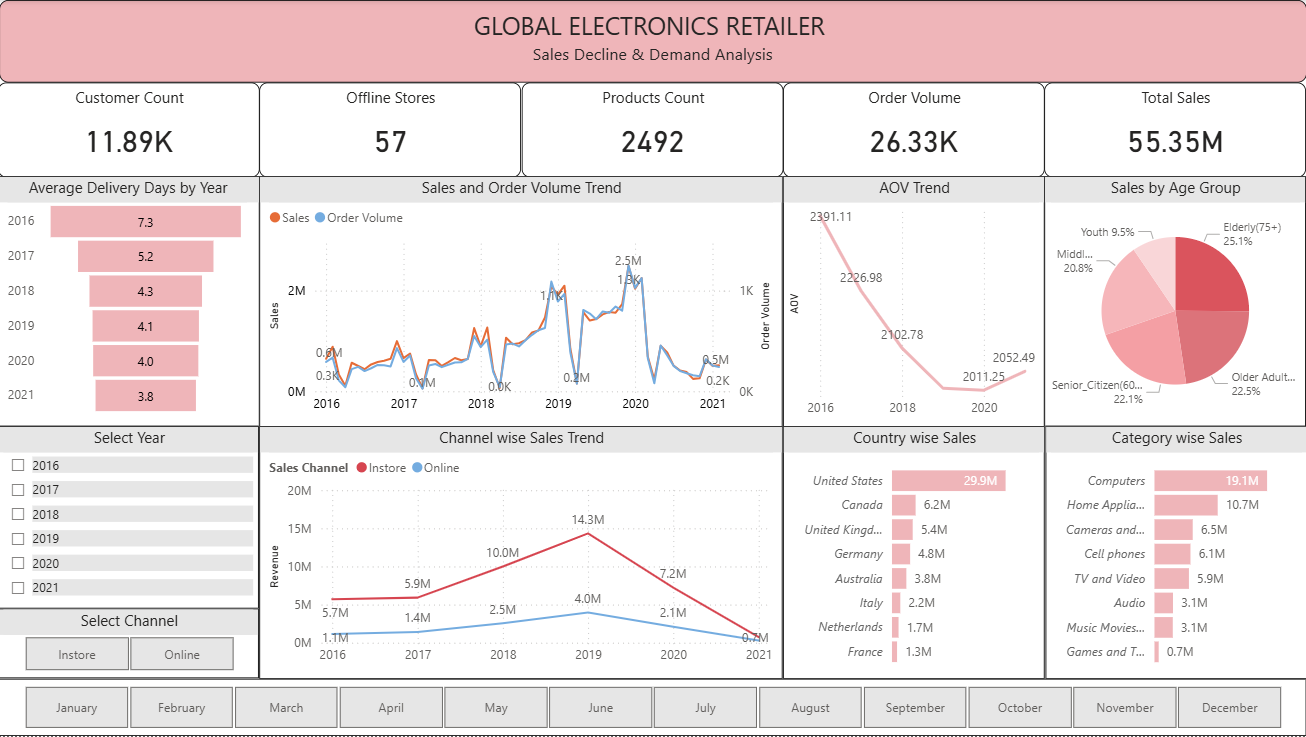

Layout of this report page (visuals, bound fields, positions):
{"tool":"powerbi","page":{"name":"DASHBOARD","canvas":[1280,720],"ordinal":0},"visuals":[{"type":"textbox","box":[1.2,0,1279.1,80.7],"z":0},{"type":"card","title":"Customer Count","fields":{"Values":["Count(Sales.Customer_Key)"]},"box":[0,80.9,256,92.9],"z":1000},{"type":"card","title":"Products Count","fields":{"Values":["Count(Sales.Product_Key)"]},"box":[512,80.9,256,92.9],"z":2000},{"type":"card","title":"Order Volume","fields":{"Values":["Count(Sales.Order_Number)"]},"box":[768,80.9,256,92.9],"z":3000},{"type":"card","title":"Offline Stores","fields":{"Values":["Stores.Store_count"]},"box":[256,80.9,256,92.9],"z":4000},{"type":"card","title":"Total Sales","fields":{"Values":["Measues.Revenue"]},"box":[1024,80.9,256,92.9],"z":5000},{"type":"lineChart","title":"Sales and Order Volume Trend","fields":{"Y":["Sales.Revenue"],"Y2":["Count(Sales.Order_Number)"],"Category":["Sales.Order_Date.Variation.Date Hierarchy.Year","Sales.Order_Date.Variation.Date Hierarchy.Quarter","Sales.Order_Date.Variation.Date Hierarchy.Month","Sales.Order_Date.Variation.Date Hierarchy.Day"]},"box":[256,172,512,245.8],"z":6000},{"type":"lineChart","title":"AOV Trend","fields":{"Y":["Measues.AOV"],"Category":["Sales.Order_Date.Variation.Date Hierarchy.Year","Sales.Order_Date.Variation.Date Hierarchy.Quarter","Sales.Order_Date.Variation.Date Hierarchy.Month","Sales.Order_Date.Variation.Date Hierarchy.Day"]},"box":[768,172,256,245.8],"z":7000},{"type":"lineChart","title":"Channel wise Sales Trend","fields":{"Y":["Sales.Revenue"],"Series":["Sales.Order_Type"],"Category":["Sales.Order_Date.Variation.Date Hierarchy.Year","Sales.Order_Date.Variation.Date Hierarchy.Quarter","Sales.Order_Date.Variation.Date Hierarchy.Month","Sales.Order_Date.Variation.Date Hierarchy.Day"]},"box":[256,417,512,247.1],"z":8000},{"type":"barChart","title":"Country wise Sales","fields":{"Category":["Customers.Country"],"Y":["Metrics.Total_Revenue"]},"box":[768,417,256,247],"z":9000},{"type":"barChart","title":"Category wise Sales","fields":{"Y":["Metrics.Total_Revenue"],"Category":["Products.Category"]},"box":[1024.8,417,256,247.1],"z":10000},{"type":"funnel","fields":{"Category":["Sales.Order_Date.Variation.Date Hierarchy.Year"],"Y":["Measues.AVG_Del_Days"]},"box":[0,172,256,244.6],"z":11000},{"type":"slicer","title":"Select Year","fields":{"Values":["Sales.Order_Date.Variation.Date Hierarchy.Year"]},"box":[0,417,255.6,178.5],"z":12000},{"type":"slicer","title":"Select Channel","fields":{"Values":["Sales.Order_Type"]},"box":[0,595,255.6,68],"z":13000},{"type":"pieChart","title":"Sales by Age Group","fields":{"Category":["Customers.Age_Group"],"Y":["Measues.Revenue"]},"box":[1023,172,256,245],"z":14000},{"type":"slicer","fields":{"Values":["Sales.Order_Date.Variation.Date Hierarchy.Month"]},"box":[0,664,1280,56],"z":15000}]}

Visuals, with their boxes in screenshot pixels (x1, y1, x2, y2), scaled from the page's 1280x720 canvas onto the 1306x737 screenshot:
textbox: (1, 0, 1305, 83)
"Customer Count" card: (0, 83, 261, 178)
"Products Count" card: (522, 83, 784, 178)
"Order Volume" card: (784, 83, 1045, 178)
"Offline Stores" card: (261, 83, 522, 178)
"Total Sales" card: (1045, 83, 1305, 178)
"Sales and Order Volume Trend" lineChart: (261, 176, 784, 428)
"AOV Trend" lineChart: (784, 176, 1045, 428)
"Channel wise Sales Trend" lineChart: (261, 427, 784, 680)
"Country wise Sales" barChart: (784, 427, 1045, 680)
"Category wise Sales" barChart: (1046, 427, 1305, 680)
funnel - Sales.Order_Date.Variation.Date Hierarchy.Year x Measues.AVG_Del_Days: (0, 176, 261, 426)
"Select Year" slicer: (0, 427, 261, 610)
"Select Channel" slicer: (0, 609, 261, 679)
"Sales by Age Group" pieChart: (1044, 176, 1305, 427)
slicer - Sales.Order_Date.Variation.Date Hierarchy.Month: (0, 680, 1305, 736)
